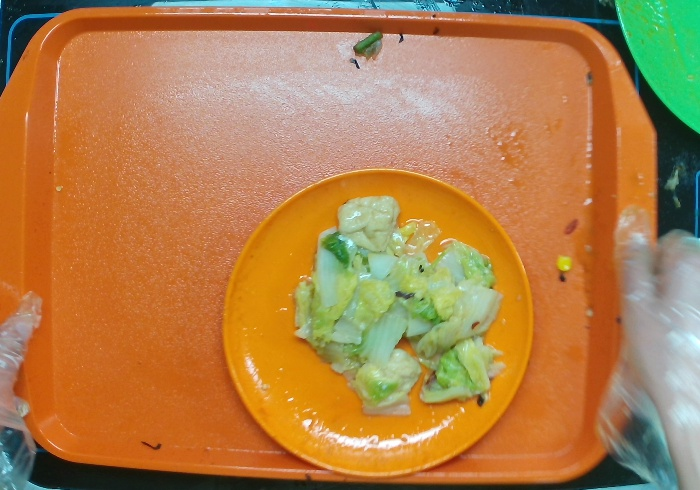HZYJPL-Ju_Huang_Yuan_Pan: (219, 167, 533, 479)
